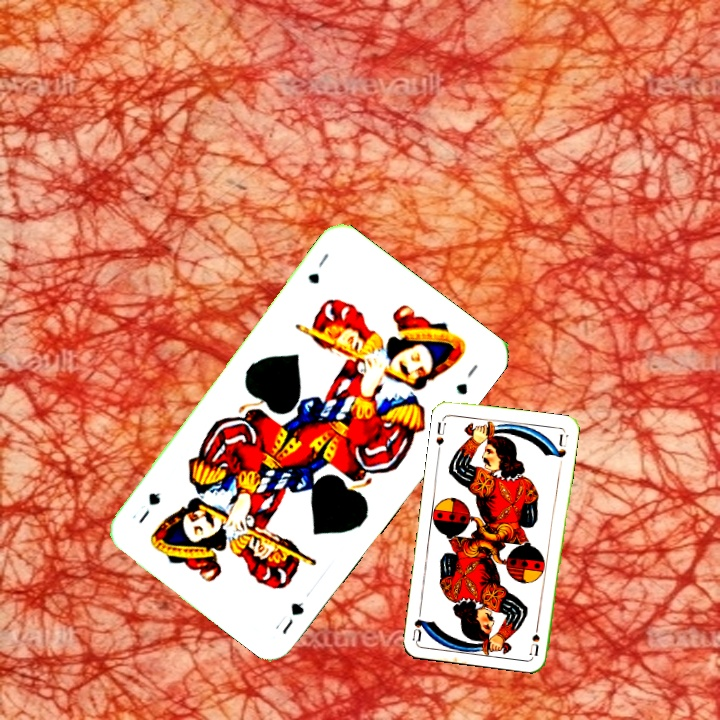GU: (277, 598, 307, 637), (303, 249, 332, 287)
SU: (526, 617, 542, 657), (432, 414, 448, 448)
